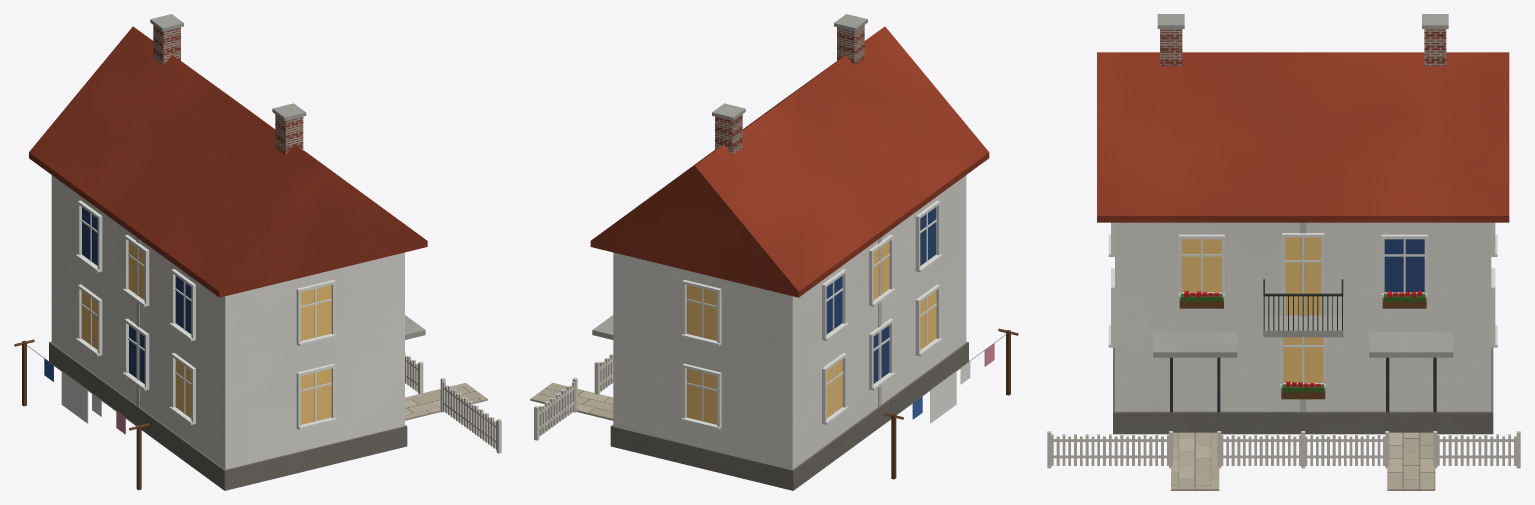
The model's file is dum_06_mestske_0.glb.
The picture shows the model from 3 angles, left to right: view 1: azimuth 30°, elevation 25°; view 2: azimuth 150°, elevation 25°; view 3: azimuth 270°, elevation 25°; orthographic projection. The views are drawn at different scales.
Parts seen in each view (by area): view 1: dum, noc; view 2: dum, noc; view 3: dum, noc.
Part boxes in pixels (x1,y1,x2,y2): dum: (14, 14, 501, 490); noc: (81, 241, 331, 424); dum: (530, 14, 1018, 490); noc: (686, 241, 936, 424); dum: (1047, 14, 1520, 490); noc: (1181, 237, 1323, 382).
Size of the model in its own units: 11.27 by 10.07 by 11.79.
1 material, 1 textured.
